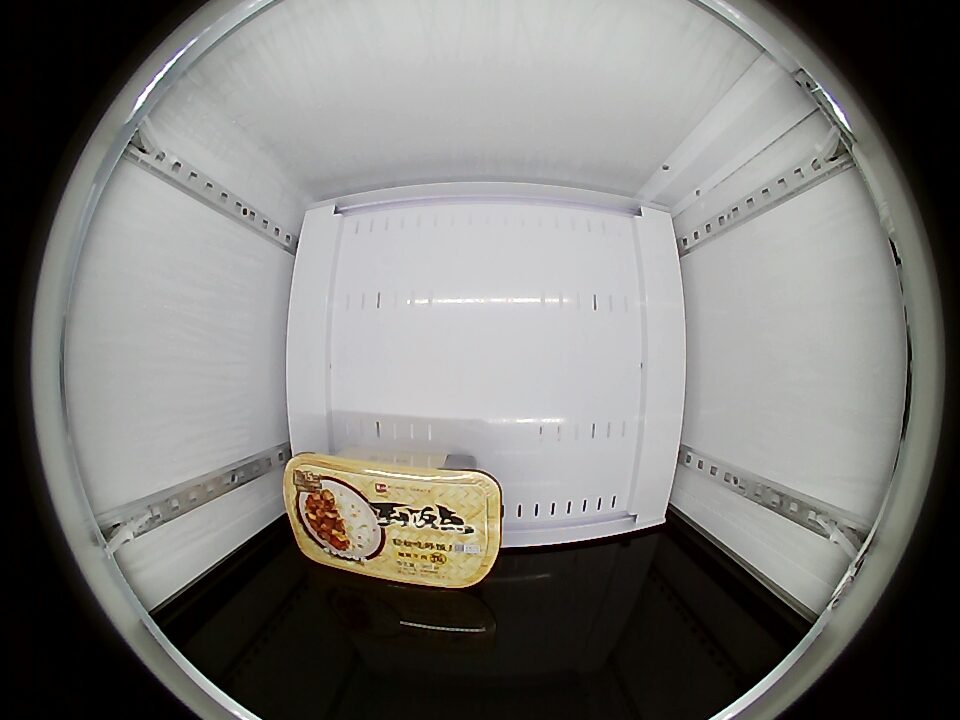daofandian2: (282, 453, 503, 588)
